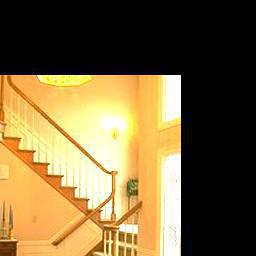Escaleras: (0, 86, 125, 198), (51, 198, 146, 256)
Puerta: (155, 145, 180, 256)
